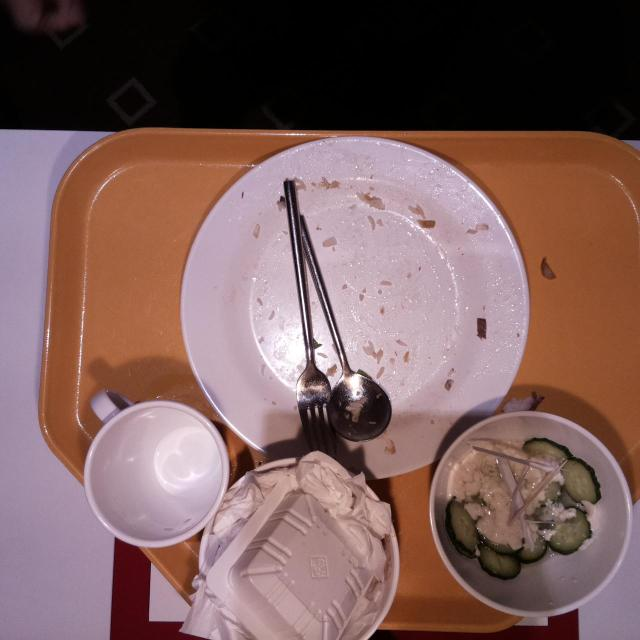Vegetable: (478, 526, 549, 580), (540, 493, 592, 557), (444, 494, 486, 558), (522, 434, 573, 484), (564, 455, 602, 507)
